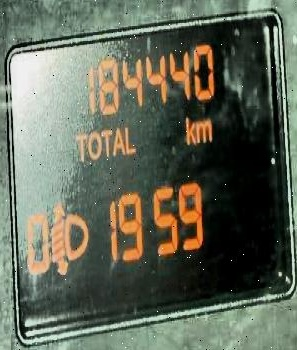0: (191, 42, 214, 100), (26, 211, 47, 274)
1: (108, 198, 117, 263), (86, 64, 96, 113)
4: (144, 54, 167, 106), (168, 48, 190, 101), (121, 57, 142, 109)
5: (153, 184, 178, 252)
8: (97, 57, 118, 115)
9: (178, 181, 204, 251), (118, 190, 143, 261)
X: (111, 125, 125, 156), (87, 128, 101, 159), (195, 119, 212, 144), (124, 124, 137, 155), (184, 115, 196, 146), (100, 128, 111, 159), (75, 131, 86, 162)
